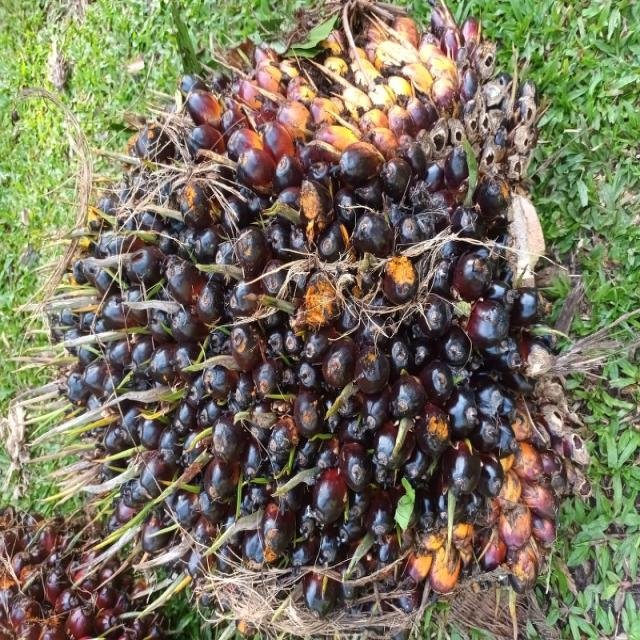fraksi 00: (0, 30, 474, 640)
